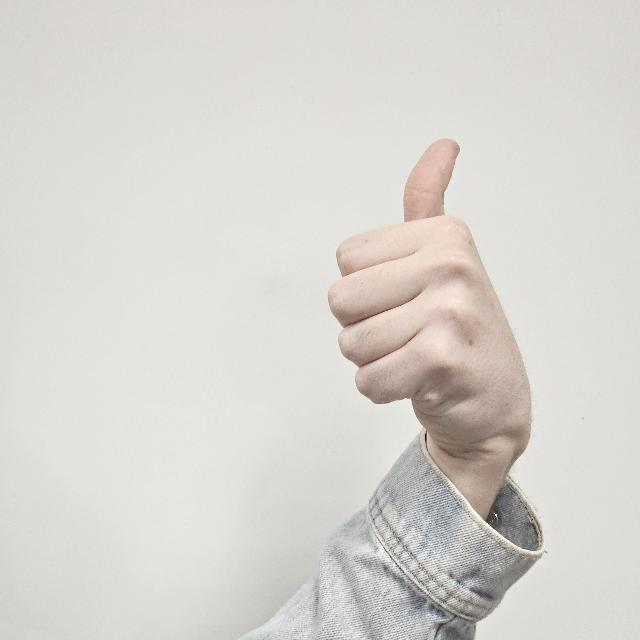Start: (327, 134, 518, 430)
